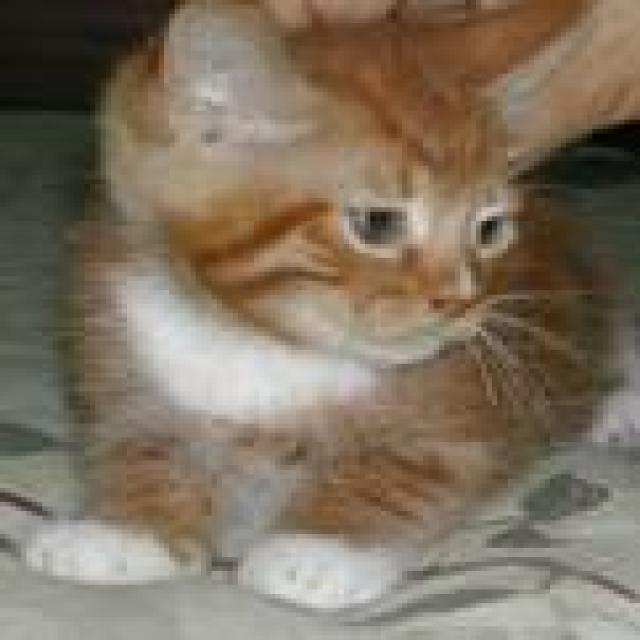cat: (0, 0, 634, 612)
